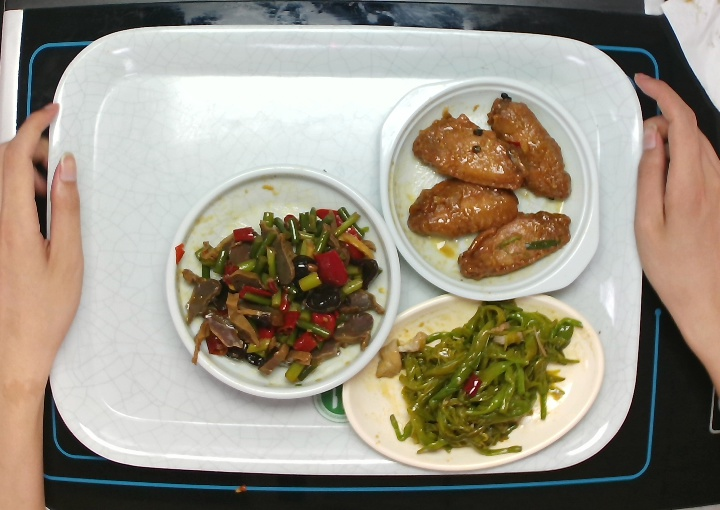JYsf-Shuang_Er_Pan: (375, 72, 604, 302)
JYsf-Tuo_Yuan_Wan: (342, 285, 606, 474)
JYsf-Xiao_Yuan_Pan: (161, 163, 401, 400)
